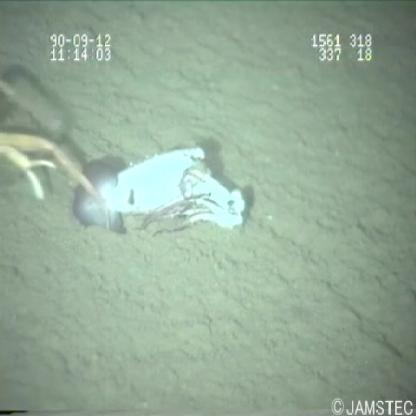Bio: (69, 141, 253, 238)
